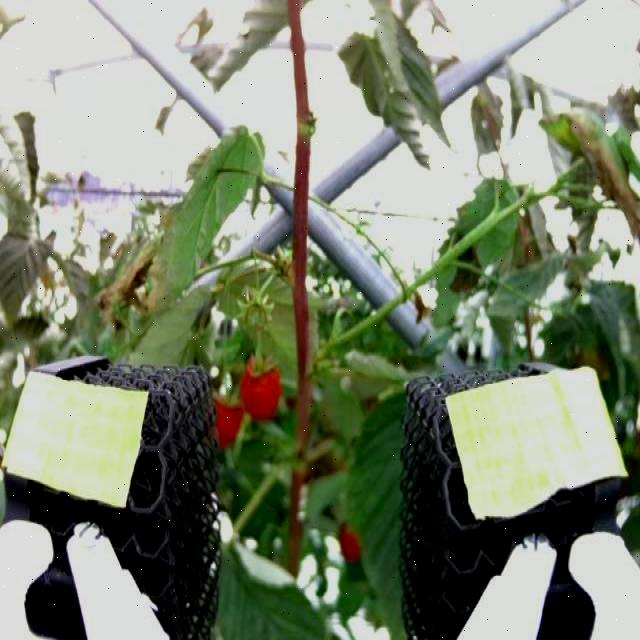Riped berries: (239, 350, 283, 418), (212, 391, 242, 442), (336, 518, 365, 565)
